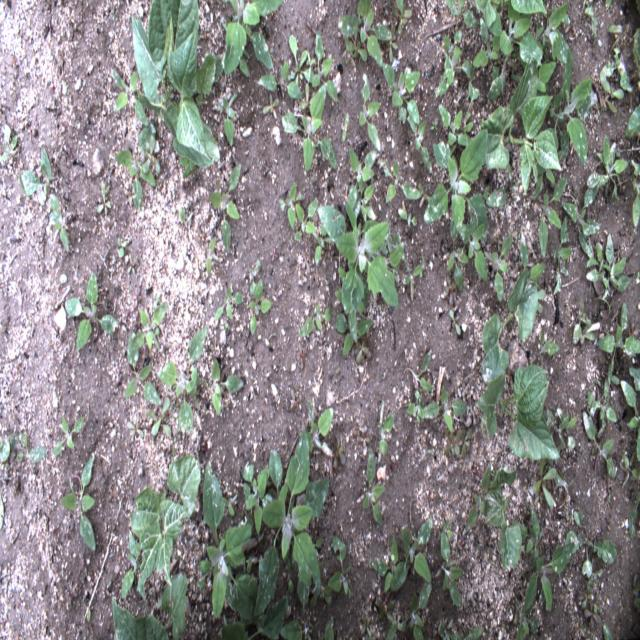crop: (130, 0, 222, 181), (120, 442, 201, 600), (482, 61, 562, 195), (476, 360, 562, 463), (482, 269, 538, 379), (111, 572, 191, 639), (485, 463, 526, 569), (512, 0, 548, 16)
weed: (251, 428, 330, 613), (319, 182, 406, 335), (197, 467, 256, 619), (524, 506, 581, 610), (424, 132, 488, 224), (160, 325, 207, 434), (221, 0, 284, 78), (551, 47, 592, 166), (282, 90, 338, 174), (65, 270, 114, 351), (335, 1, 392, 68), (59, 456, 98, 552), (486, 3, 544, 65), (391, 519, 434, 594), (208, 160, 241, 254), (586, 234, 630, 303), (215, 598, 288, 639), (114, 145, 157, 212), (380, 63, 420, 134), (438, 81, 480, 147), (564, 188, 600, 258), (598, 306, 639, 367), (587, 138, 627, 198), (538, 176, 567, 257), (583, 412, 616, 478), (124, 348, 160, 408), (242, 463, 271, 536), (422, 382, 467, 429), (210, 356, 244, 418), (126, 301, 167, 352), (354, 79, 382, 153), (361, 446, 385, 528), (20, 148, 53, 206), (312, 29, 340, 97), (113, 70, 148, 124), (435, 30, 464, 94), (536, 3, 570, 57), (256, 61, 303, 99), (467, 185, 506, 230), (382, 158, 420, 204), (439, 539, 464, 608), (580, 535, 618, 580), (372, 536, 402, 592), (551, 220, 574, 293), (0, 432, 50, 465), (459, 224, 488, 278), (467, 466, 491, 530), (337, 312, 373, 354), (401, 351, 436, 394), (446, 224, 468, 292), (621, 378, 639, 461), (487, 55, 521, 98), (249, 277, 273, 337), (602, 49, 634, 93), (297, 302, 334, 339), (146, 395, 177, 439), (278, 179, 305, 229), (408, 585, 433, 639), (288, 32, 312, 88), (348, 148, 376, 196), (54, 414, 85, 456), (306, 402, 332, 452), (569, 298, 595, 348), (492, 236, 512, 300), (213, 282, 244, 321), (546, 412, 577, 451), (49, 192, 69, 250), (472, 34, 501, 74), (532, 462, 556, 510), (331, 537, 351, 594), (293, 196, 318, 241), (477, 0, 504, 41), (589, 390, 618, 426), (516, 246, 545, 281), (414, 119, 432, 174), (435, 619, 484, 639), (137, 127, 160, 169), (599, 74, 623, 114), (444, 0, 478, 28), (378, 409, 395, 462), (222, 91, 237, 148), (402, 260, 427, 294), (630, 147, 640, 229), (360, 183, 380, 221), (624, 96, 640, 142), (392, 4, 413, 39), (628, 489, 640, 549), (267, 450, 283, 495), (538, 328, 561, 358), (0, 127, 18, 163), (203, 236, 217, 280), (554, 471, 574, 501), (384, 613, 406, 639), (583, 0, 597, 40), (622, 452, 640, 483), (539, 62, 557, 92), (518, 611, 538, 637), (360, 610, 377, 640), (287, 616, 309, 639), (310, 586, 334, 607), (410, 389, 424, 425), (398, 201, 418, 226), (98, 179, 111, 217), (347, 40, 367, 64), (445, 430, 462, 458), (378, 597, 397, 621), (564, 508, 584, 529), (631, 571, 640, 617), (317, 618, 336, 639), (334, 436, 344, 475), (460, 427, 472, 458), (602, 620, 620, 640), (450, 308, 462, 337), (388, 25, 398, 59), (314, 235, 326, 263), (355, 340, 369, 364), (632, 27, 640, 68), (286, 556, 294, 594), (606, 369, 619, 392), (262, 98, 280, 114), (627, 367, 639, 390), (222, 498, 236, 516), (440, 520, 454, 538), (582, 591, 595, 610), (117, 234, 126, 260), (0, 492, 6, 530), (127, 422, 143, 436), (590, 570, 602, 588), (537, 286, 544, 314), (342, 114, 348, 144), (593, 599, 603, 616), (607, 26, 624, 36), (569, 434, 577, 452), (605, 490, 615, 503), (219, 320, 229, 332), (178, 208, 186, 223), (430, 119, 439, 131), (604, 0, 616, 9), (577, 625, 587, 635), (86, 607, 92, 623), (635, 268, 640, 284), (514, 233, 520, 246), (594, 105, 600, 117), (317, 537, 323, 548), (255, 258, 260, 271), (636, 1, 640, 14), (590, 450, 594, 461)
